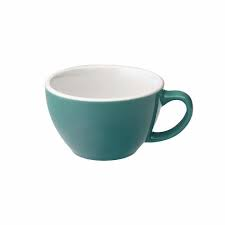cup: (41, 60, 197, 165)
